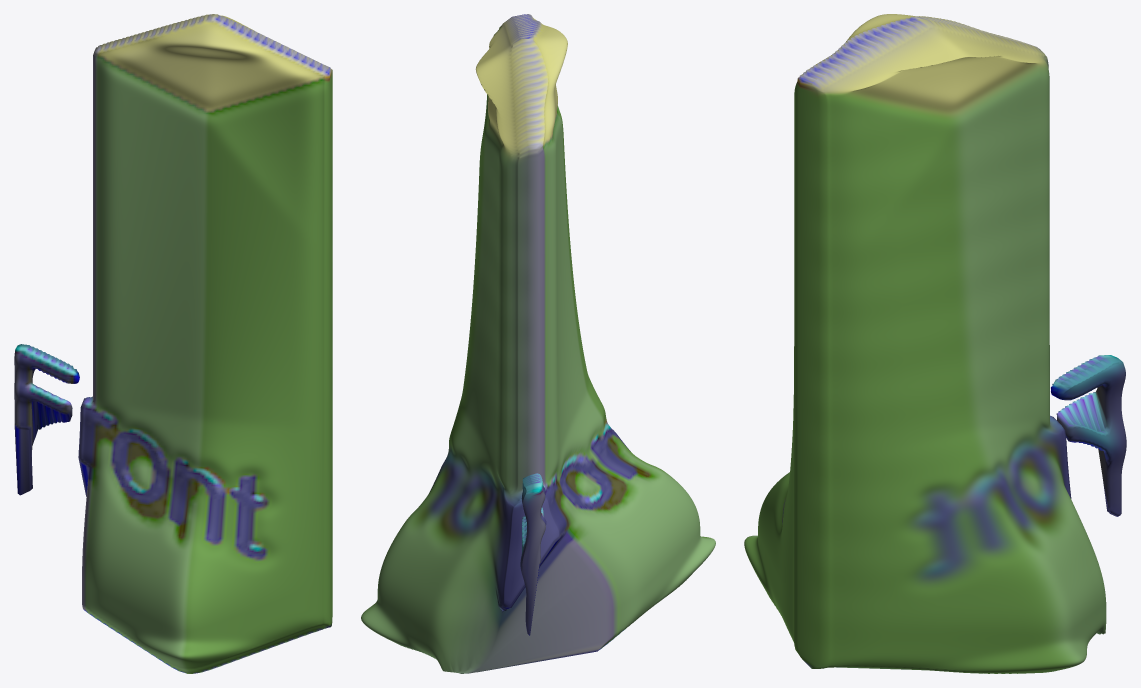
Rendered from london_big_ben.glb.
The picture shows the model from 3 angles, left to right: view 1: azimuth 30°, elevation 25°; view 2: azimuth 150°, elevation 25°; view 3: azimuth 270°, elevation 25°; orthographic projection. The views are drawn at different scales.
Visible parts, largest first — view 1: london_big_ben; view 2: london_big_ben; view 3: london_big_ben.
Boxes of the visible parts, x1=… form: london_big_ben: x1=14, y1=14, x2=332, y2=673; london_big_ben: x1=361, y1=14, x2=715, y2=673; london_big_ben: x1=744, y1=14, x2=1126, y2=673.
Bounding box in the file's own units: 0.6225 × 1.61 × 0.9058.
